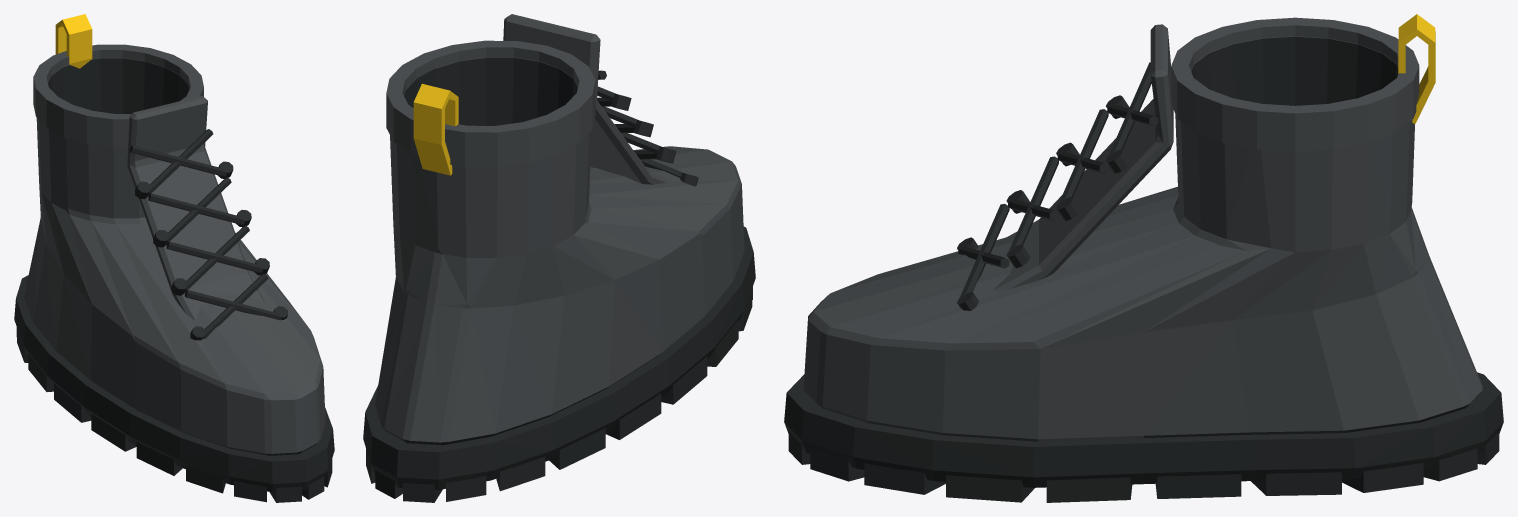
The model's file is Boot_L.fbx.
The picture shows the model from 3 angles, left to right: view 1: azimuth 30°, elevation 25°; view 2: azimuth 150°, elevation 25°; view 3: azimuth 270°, elevation 25°; orthographic projection. The views are drawn at different scales.
Visible parts, largest first — view 1: Boot_L_Upper, Boot_L_Sole, Boot_L_Tongue, Boot_L_Laces, Boot_L_PaddedCollar, Boot_L_PullLoop; view 2: Boot_L_Upper, Boot_L_Sole, Boot_L_PaddedCollar, Boot_L_Tongue, Boot_L_PullLoop, Boot_L_Laces; view 3: Boot_L_Upper, Boot_L_Sole, Boot_L_PaddedCollar, Boot_L_Tongue, Boot_L_Laces, Boot_L_PullLoop.
Part boxes in pixels (x1=…): Boot_L_Upper: x1=24, y1=58, x2=325, y2=455; Boot_L_Sole: x1=14, y1=275, x2=334, y2=502; Boot_L_Tongue: x1=127, y1=96, x2=264, y2=320; Boot_L_Laces: x1=130, y1=129, x2=288, y2=340; Boot_L_PaddedCollar: x1=33, y1=44, x2=203, y2=147; Boot_L_PullLoop: x1=55, y1=14, x2=92, y2=68; Boot_L_Upper: x1=375, y1=57, x2=744, y2=445; Boot_L_Sole: x1=363, y1=226, x2=755, y2=502; Boot_L_PaddedCollar: x1=386, y1=40, x2=595, y2=166; Boot_L_Tongue: x1=503, y1=14, x2=669, y2=184; Boot_L_PullLoop: x1=413, y1=83, x2=458, y2=175; Boot_L_Laces: x1=597, y1=70, x2=698, y2=186; Boot_L_Upper: x1=803, y1=36, x2=1482, y2=441; Boot_L_Sole: x1=784, y1=372, x2=1503, y2=502; Boot_L_PaddedCollar: x1=1171, y1=17, x2=1419, y2=151; Boot_L_Tongue: x1=992, y1=24, x2=1173, y2=290; Boot_L_Laces: x1=957, y1=62, x2=1158, y2=310; Boot_L_PullLoop: x1=1398, y1=14, x2=1435, y2=123.
Size of the model in its own units: 0.11 by 0.19 by 0.29.
